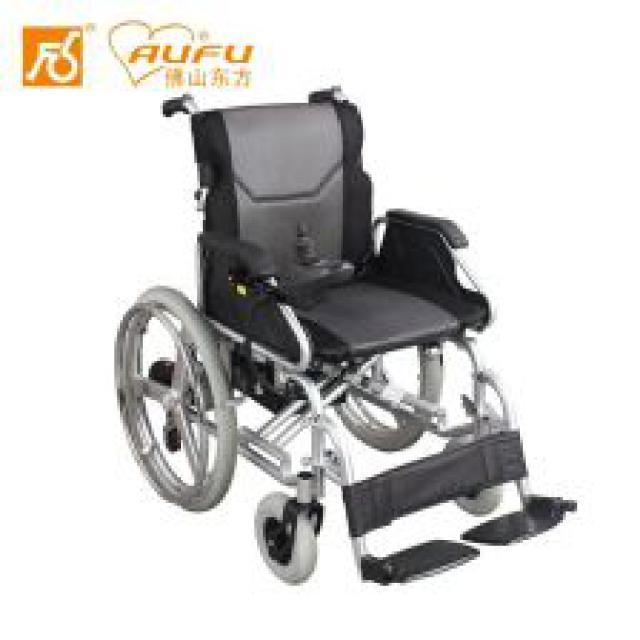wheelchair: (103, 83, 600, 592)
